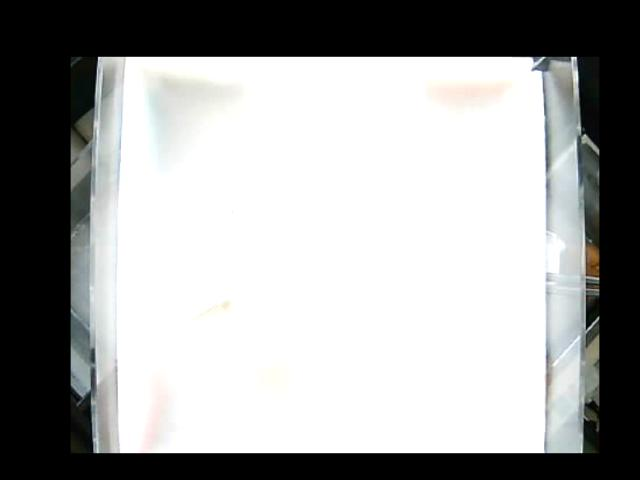Cup: (174, 269, 286, 382)
